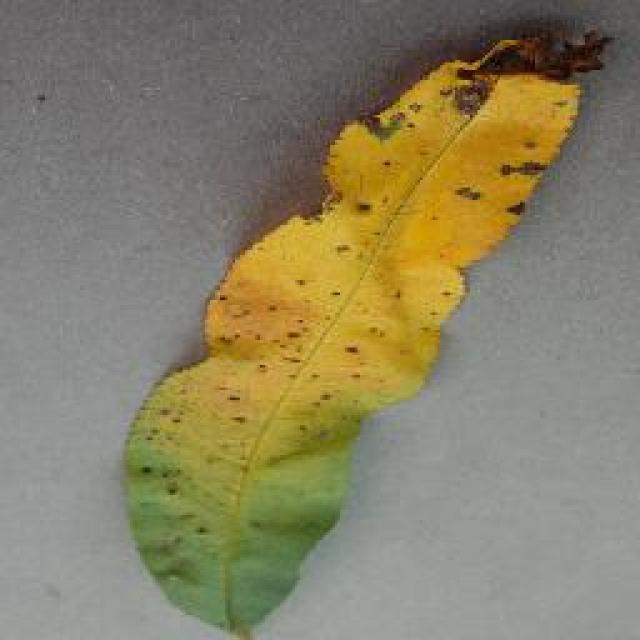Peach_Bacterial_Spot: (208, 103, 564, 505)
